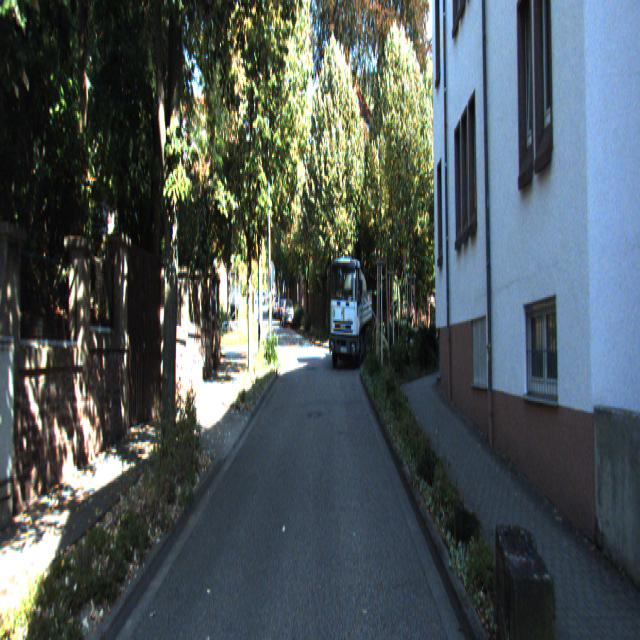Car: (329, 256, 373, 375), (282, 299, 294, 332)
